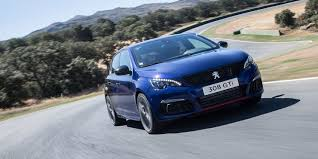car: (106, 34, 270, 130)
